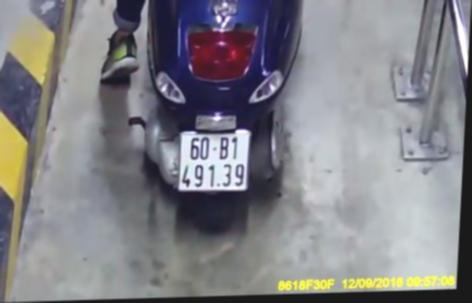License_Plate: (172, 122, 255, 198)
